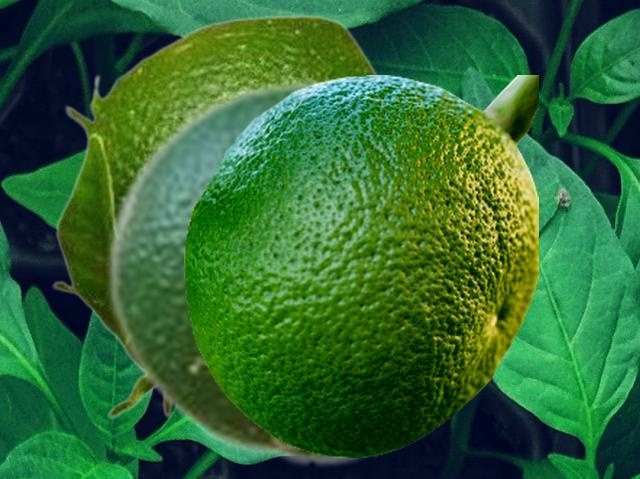dalandan: (105, 78, 513, 468), (184, 75, 537, 456), (50, 14, 380, 419)
